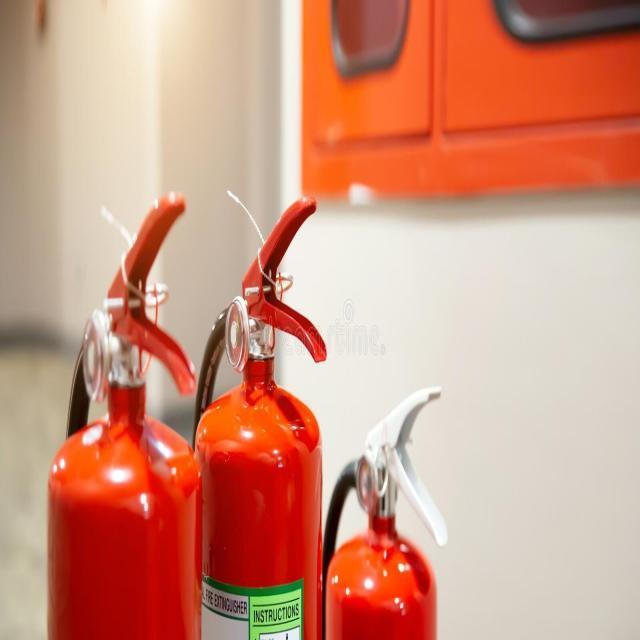fire_extinguisher: (42, 180, 206, 640), (184, 185, 330, 639), (313, 370, 451, 640)
